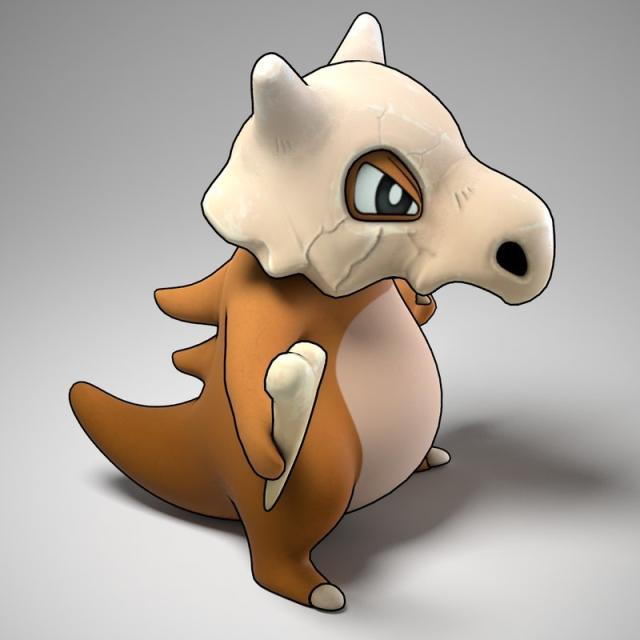Cubone: (73, 7, 559, 610)
